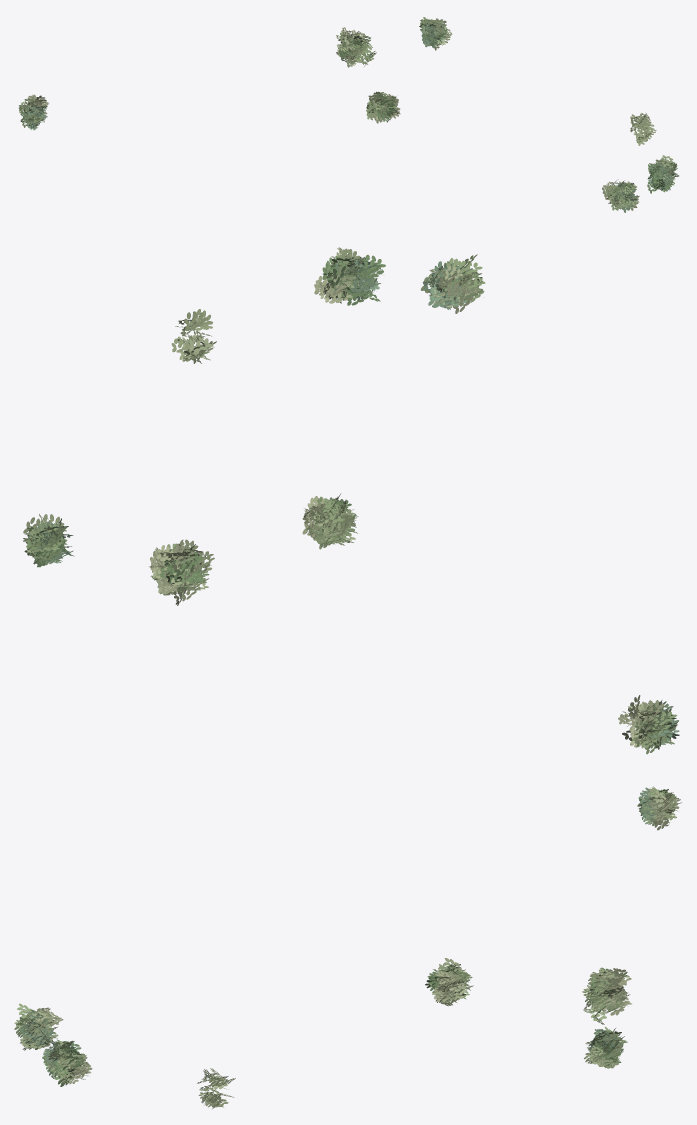
The model's file is campus-tree--3_-3-far.glb.
3 renders of one model, top to bottom at view 1: azimuth 30°, elevation 25°; view 2: azimuth 150°, elevation 25°; view 3: azimuth 270°, elevation 25°, orthographic. The views are drawn at different scales.
Visible parts, largest first — view 1: Campus leaf canopy; view 2: Campus leaf canopy; view 3: Campus leaf canopy.
Boxes of the visible parts, x1,y1,x2,y2 form: Campus leaf canopy: [18, 17, 678, 212]; Campus leaf canopy: [23, 247, 679, 754]; Campus leaf canopy: [14, 786, 681, 1108].
Size of the model in its own units: 75.35 by 6.86 by 70.69.
Materials: 1 (1 with a texture image).
